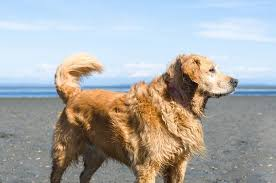Bulldog: (40, 32, 244, 182)
